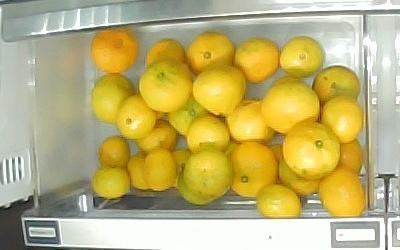tangerine: (282, 123, 341, 178), (262, 80, 321, 135), (138, 57, 192, 111), (191, 64, 247, 116), (230, 142, 277, 198), (182, 149, 232, 199), (318, 167, 366, 216), (89, 27, 138, 74), (226, 99, 277, 143), (91, 73, 134, 124), (235, 38, 280, 85), (186, 30, 234, 74), (313, 65, 361, 105), (280, 36, 325, 76), (322, 97, 362, 141), (277, 157, 322, 196), (117, 94, 156, 138), (186, 115, 232, 152), (166, 97, 207, 137), (257, 185, 301, 219), (135, 120, 181, 151), (143, 149, 176, 191), (92, 167, 130, 198), (97, 136, 129, 170), (145, 38, 184, 65), (337, 137, 364, 174), (127, 151, 149, 191)
